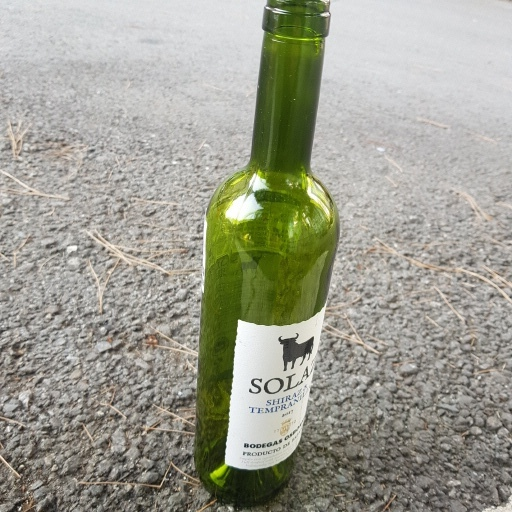Glass_2: (194, 1, 342, 507)
